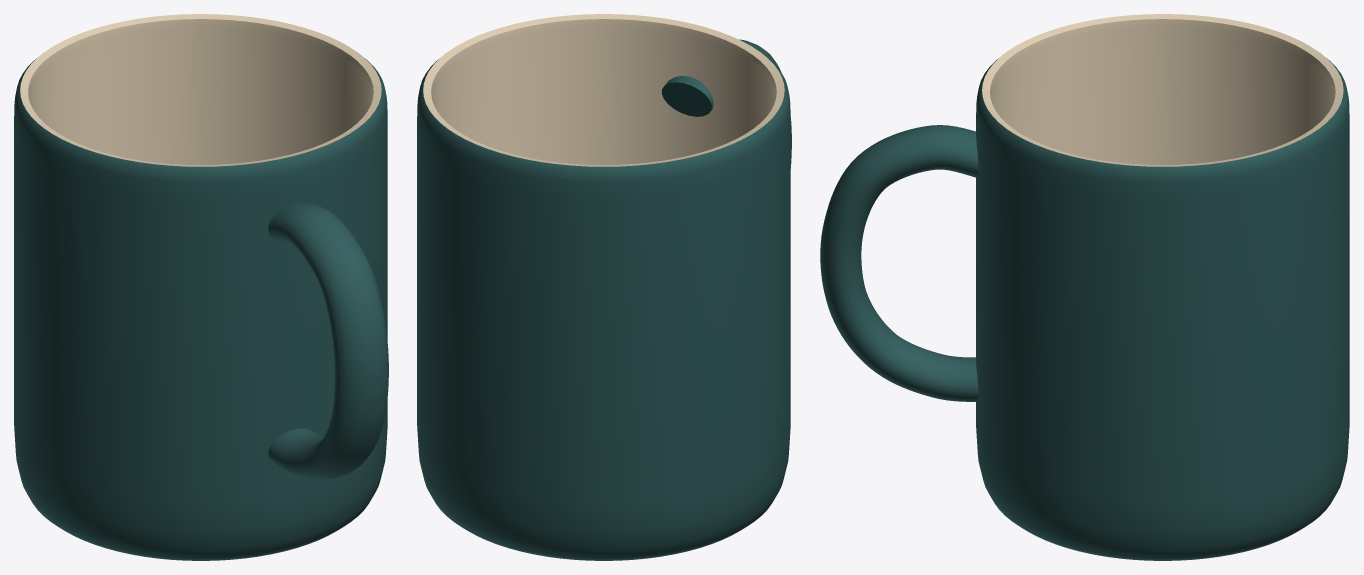
File: mug.fbx
The picture shows the model from 3 angles, left to right: view 1: azimuth 30°, elevation 25°; view 2: azimuth 150°, elevation 25°; view 3: azimuth 270°, elevation 25°; orthographic projection.
Parts seen in each view (by area): view 1: mug; view 2: mug; view 3: mug.
Part boxes in pixels (x1,y1,x2,y2): mug: (14, 14, 388, 560); mug: (417, 14, 791, 560); mug: (820, 14, 1349, 560).
Bounding box in the file's own units: 0.08 × 0.1133 × 0.095.
